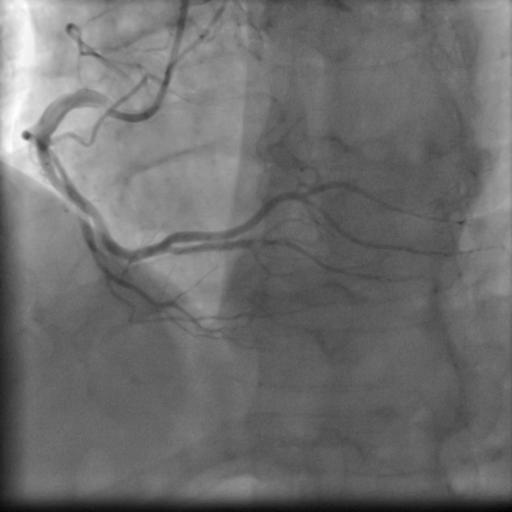Stenosis: (34, 146, 53, 169)
